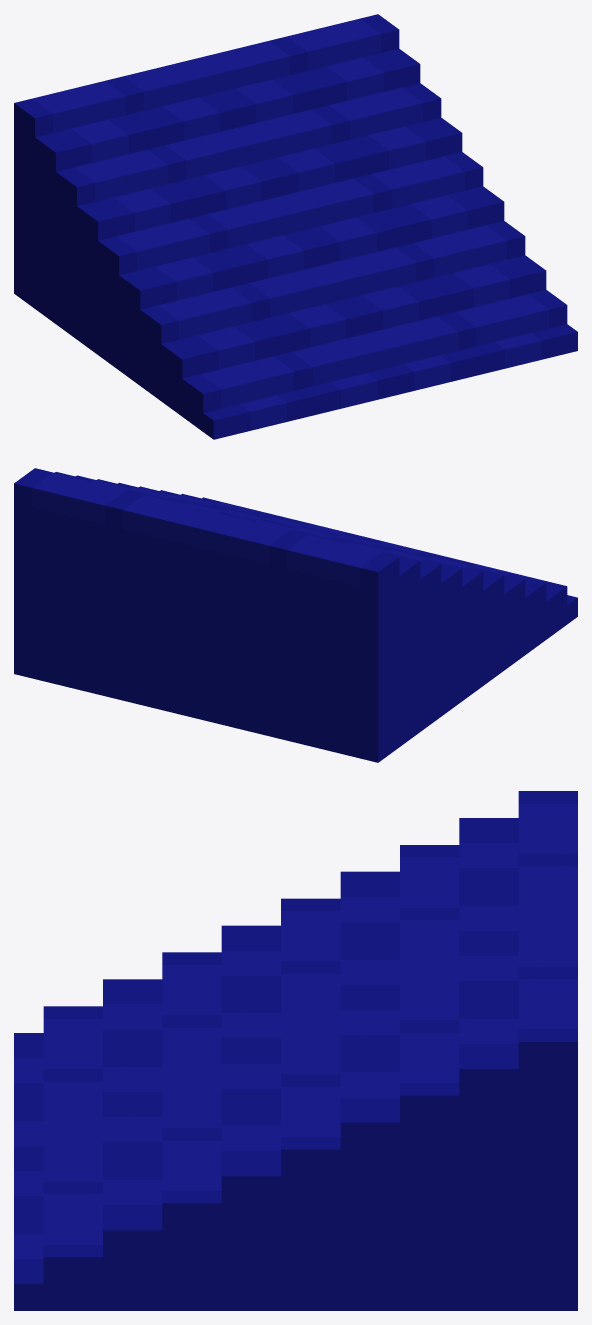
The model's file is half_top_ramp_bot_middle.glb.
3 views of the same model, one above another, from view 1: azimuth 30°, elevation 25°; view 2: azimuth 150°, elevation 25°; view 3: azimuth 270°, elevation 25° (orthographic). The views are drawn at different scales.
Visible parts, largest first — view 1: half_top_ramp_bot_mid; view 2: half_top_ramp_bot_mid; view 3: half_top_ramp_bot_mid.
Part boxes in pixels (<box>): half_top_ramp_bot_mid: <box>14,14,577,439</box>; half_top_ramp_bot_mid: <box>14,468,577,762</box>; half_top_ramp_bot_mid: <box>14,791,577,1310</box>.
Bounding box in the file's own units: 2 × 1 × 1.9.
Materials: 1 (1 with a texture image).
